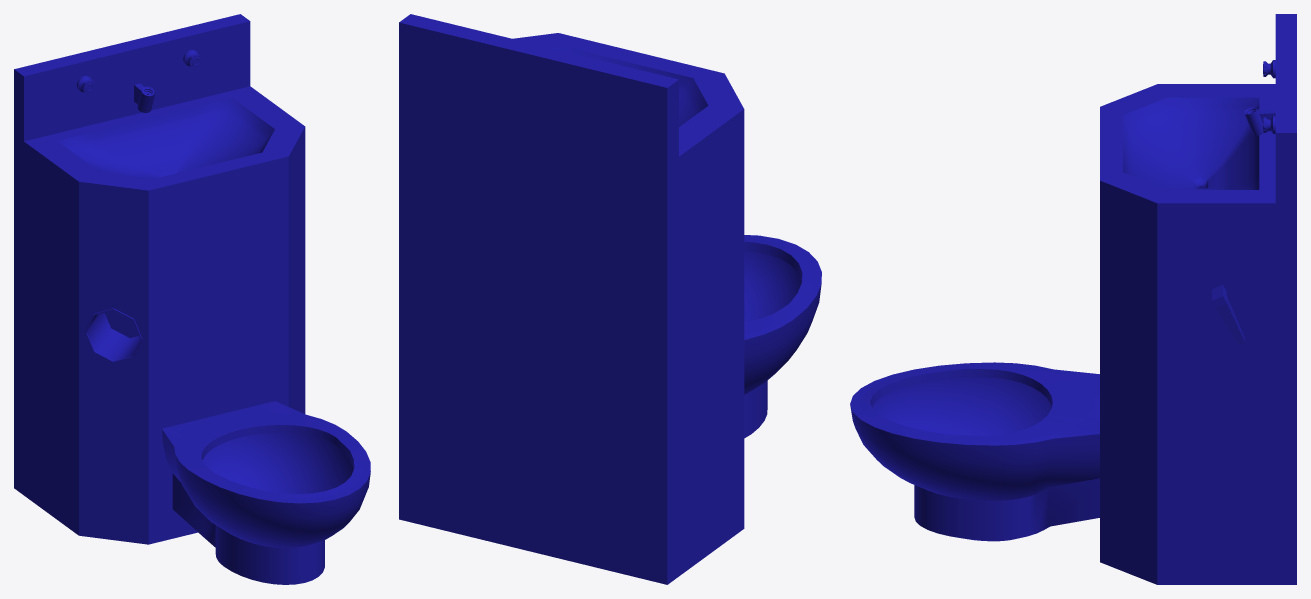
The model's file is Tutorial_Model_Environment_PrisonToilet.fbx.
3 views of the same model, side by side, from view 1: azimuth 30°, elevation 25°; view 2: azimuth 150°, elevation 25°; view 3: azimuth 270°, elevation 25° (orthographic). The views are drawn at different scales.
Parts seen in each view (by area): view 1: PrisonToilet; view 2: PrisonToilet; view 3: PrisonToilet.
Part boxes in pixels (<box>): PrisonToilet: <box>14,14,370,584</box>; PrisonToilet: <box>399,14,821,584</box>; PrisonToilet: <box>850,14,1296,584</box>.
Bounding box in the file's own units: 40.07 × 64.67 × 57.96.
